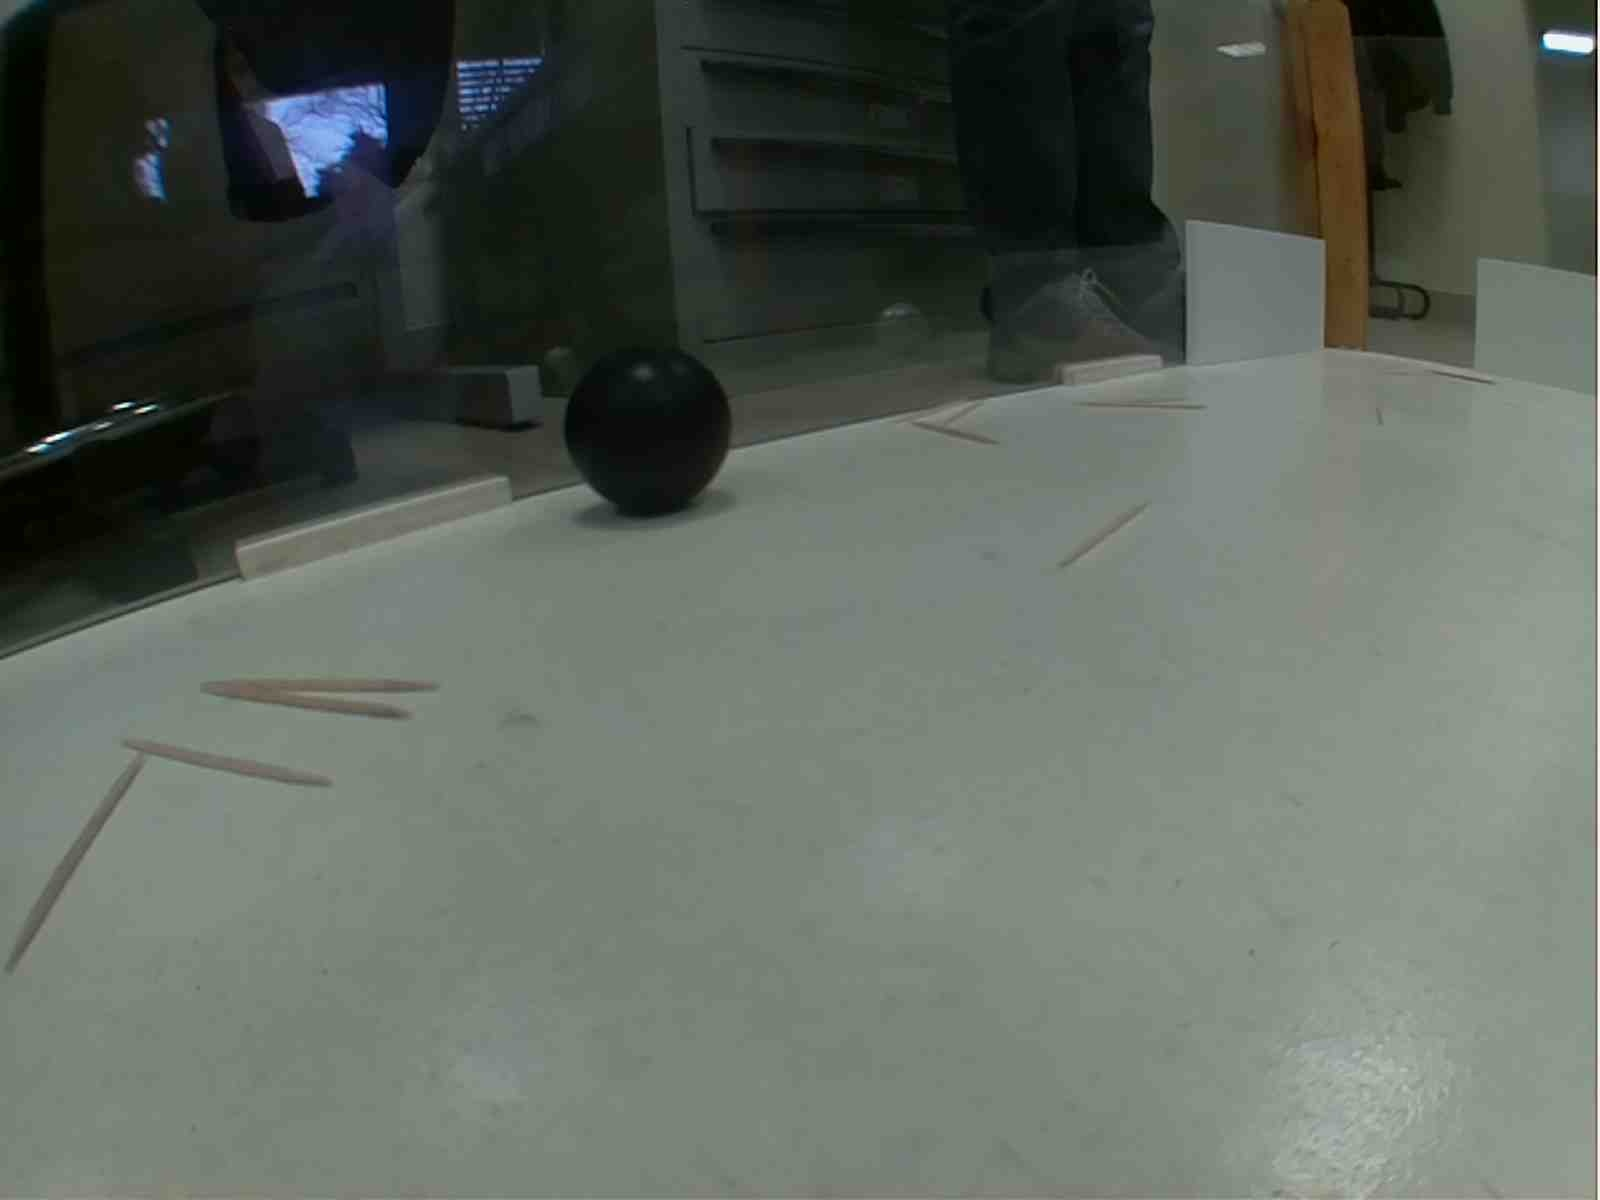nera: (556, 342, 740, 518)
